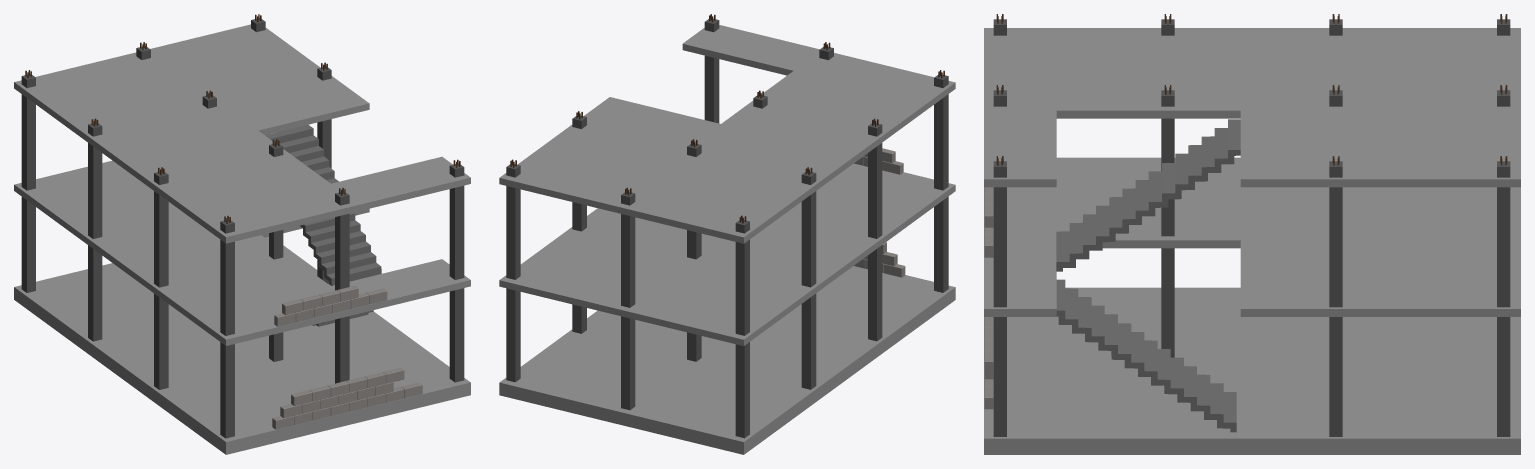
Rendered from Construction_01.glb.
3 renders of one model, left to right at view 1: azimuth 30°, elevation 25°; view 2: azimuth 150°, elevation 25°; view 3: azimuth 270°, elevation 25°, orthographic. The views are drawn at different scales.
Parts seen in each view (by area): view 1: Construction_01; view 2: Construction_01; view 3: Construction_01.
Boxes of the visible parts, box(x1,y1,x2,y2) form: Construction_01: box(14, 14, 470, 454); Construction_01: box(499, 14, 955, 454); Construction_01: box(984, 14, 1520, 454).
Size of the model in its own units: 8 by 7.23 by 12.
1 material, 1 textured.
